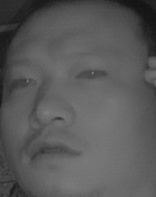eye: (10, 69, 41, 90), (74, 65, 106, 85)
mouth: (25, 133, 83, 165)
